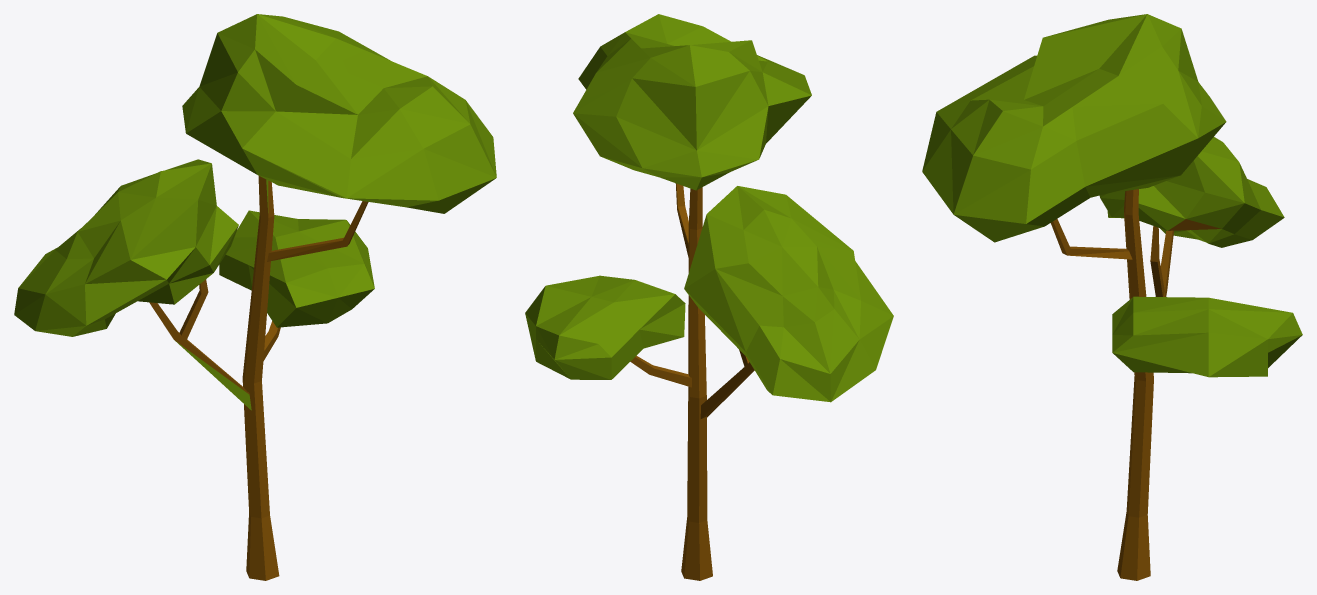
Rendered from Tree1.fbx.
The picture shows the model from 3 angles, left to right: view 1: azimuth 30°, elevation 25°; view 2: azimuth 150°, elevation 25°; view 3: azimuth 270°, elevation 25°; orthographic projection. The views are drawn at different scales.
Visible parts, largest first — view 1: Tree_temp_climate_008; view 2: Tree_temp_climate_008; view 3: Tree_temp_climate_008.
Boxes of the visible parts, x1,y1,x2,y2 form: Tree_temp_climate_008: (14,14,496,580); Tree_temp_climate_008: (525,14,893,580); Tree_temp_climate_008: (922,14,1302,580).
Bounding box in the file's own units: 356 × 492 × 303.
